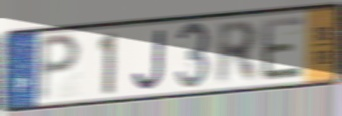1: (97, 29, 119, 97)
3: (175, 18, 211, 94)
E: (260, 13, 306, 83)
J: (132, 27, 167, 92)
P: (35, 32, 83, 105)
R: (216, 19, 260, 88)
